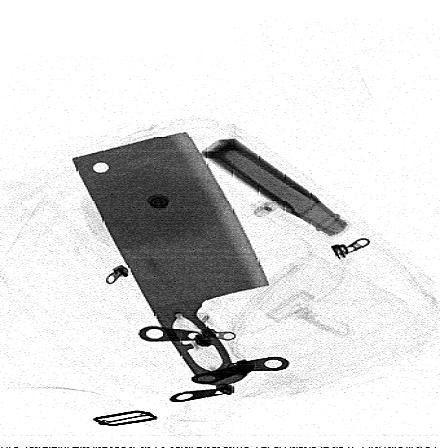Knife: (68, 130, 274, 390)
